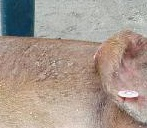text: (113, 79, 145, 107)
